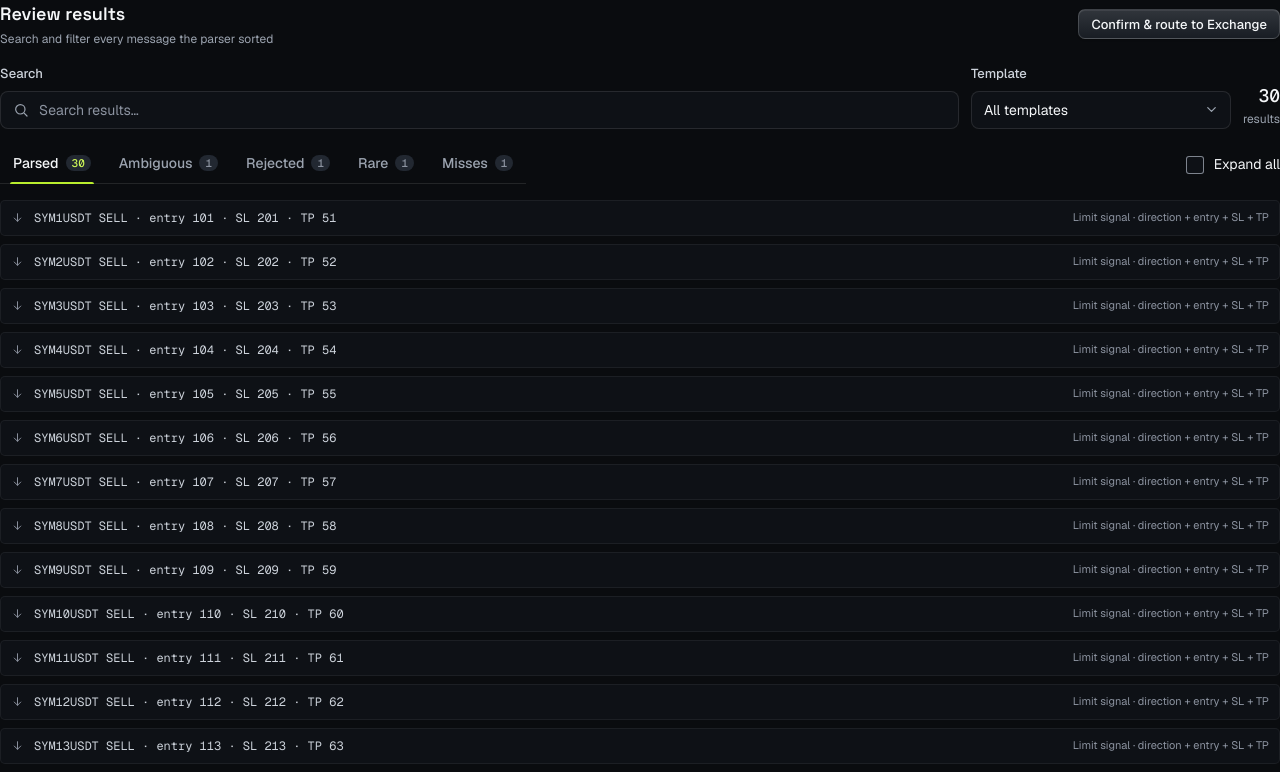
it: AuditReview › search filters across the whole bucket, not just the visible page
Type "AAVE" into the field with placeholder "Search results…" at (491, 110), box [37,100,946,120]
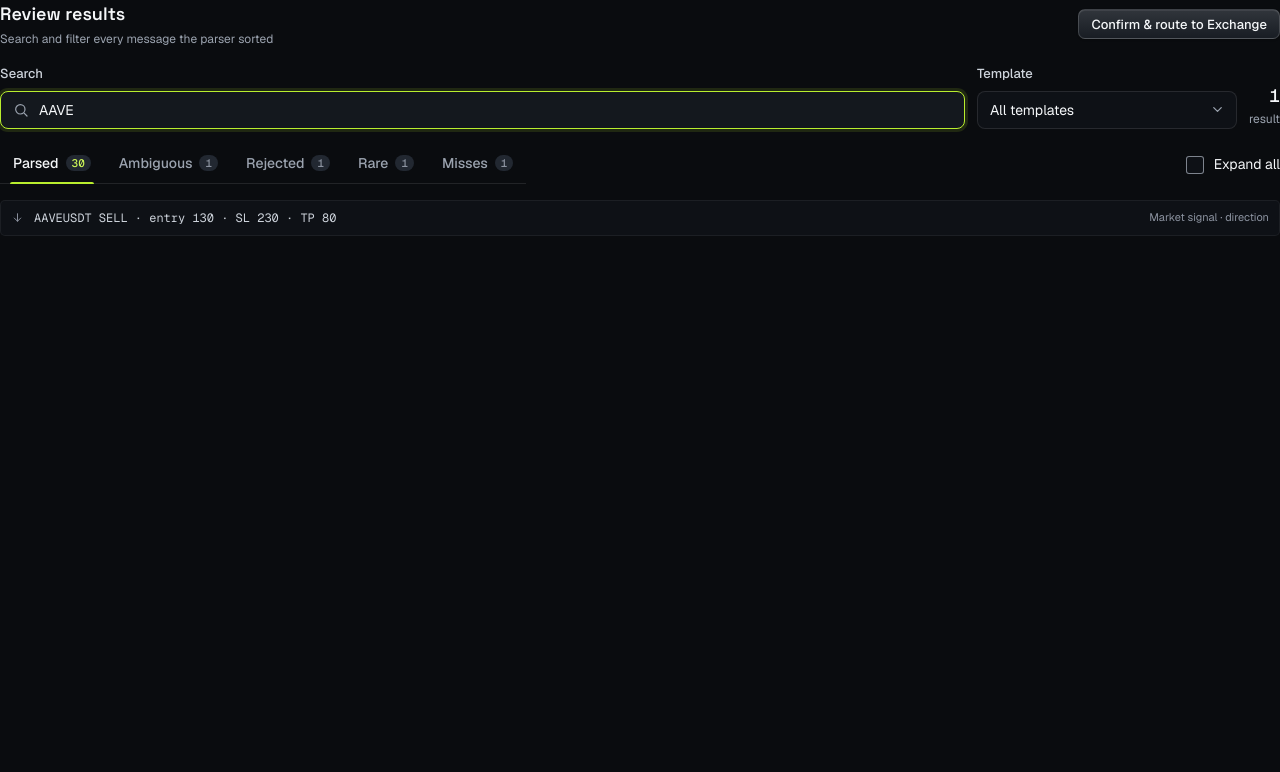
Result: the text "AAVEUSDT SELL · entry 130 · SL 230 · TP 80" is shown at [34,210,336,226]
Result: the button "SYM1USDT SELL" is gone
